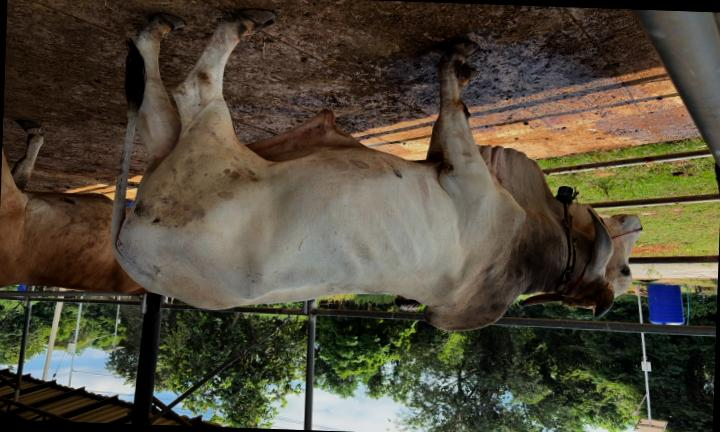Brahman: (110, 10, 641, 331)
